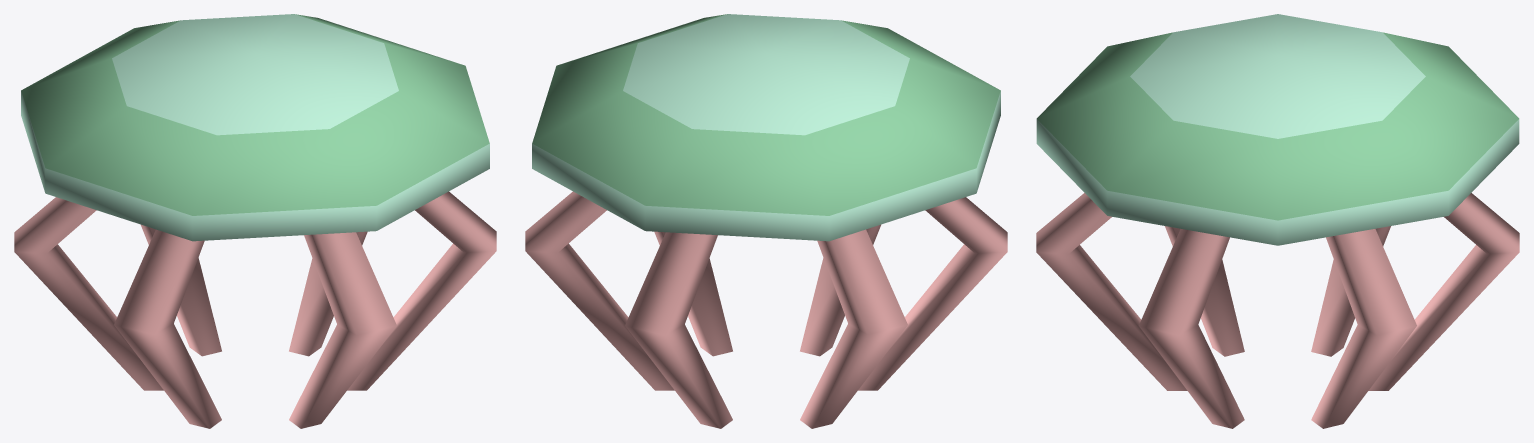
File: jellyfish.fbx
The picture shows the model from 3 angles, left to right: view 1: azimuth 30°, elevation 25°; view 2: azimuth 150°, elevation 25°; view 3: azimuth 270°, elevation 25°; orthographic projection.
Visible parts, largest first — view 1: jellyfish; view 2: jellyfish; view 3: jellyfish.
Part boxes in pixels (bbox=[...]): jellyfish: bbox=[14, 14, 496, 428]; jellyfish: bbox=[525, 14, 1007, 428]; jellyfish: bbox=[1036, 14, 1519, 428].
Size of the model in its own units: 87.15 by 65.77 by 87.21.
